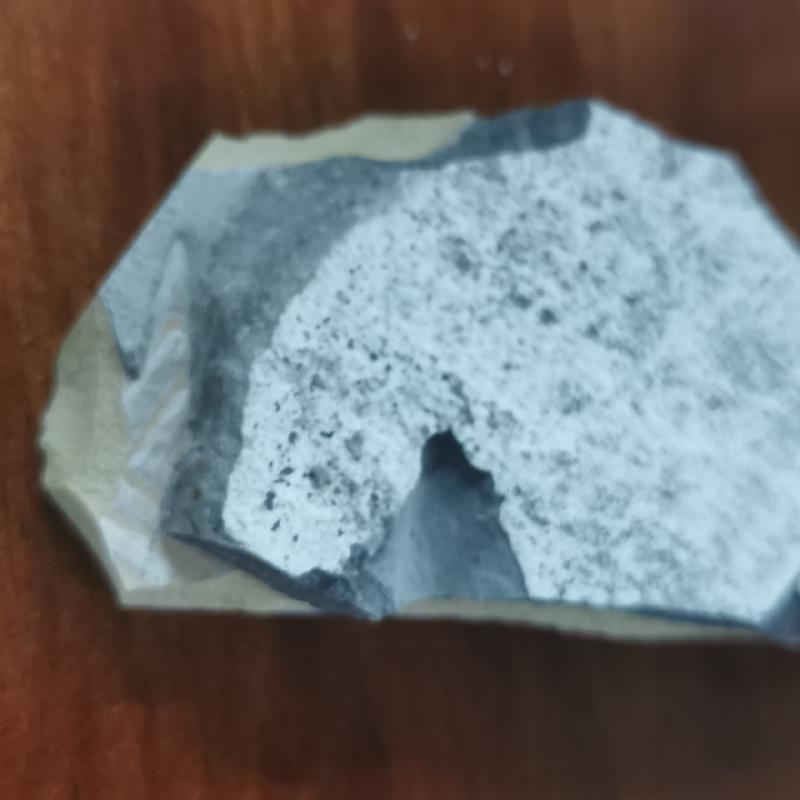tile: (36, 96, 799, 659)
